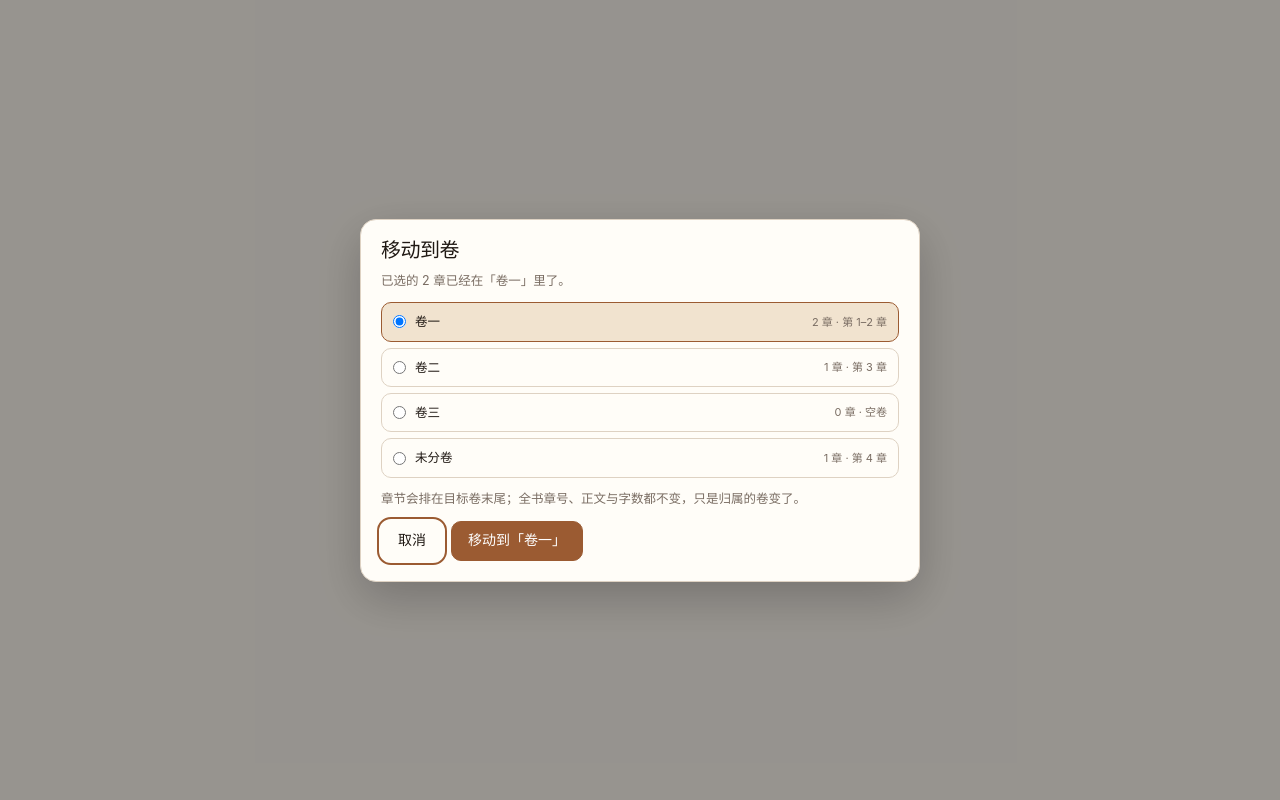
Test case: 移动到卷弹窗 › 全都在目标卷时不动库，只提示
Click the button with test id "volume-move-confirm": (517, 540) x1=451 y1=520 x2=583 y2=560
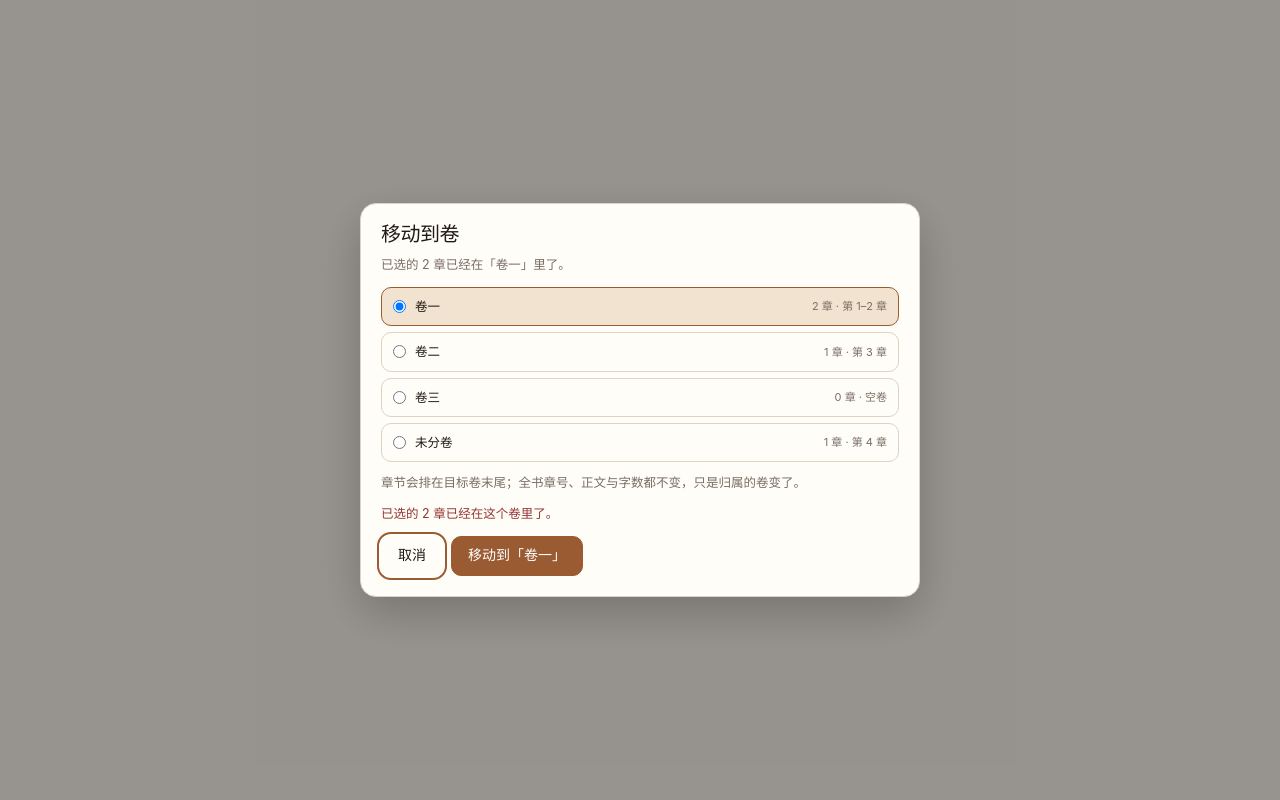
Result: the message with test id "volume-move-error" shows "已经在这个卷里了" at x1=381 y1=506 x2=558 y2=521
